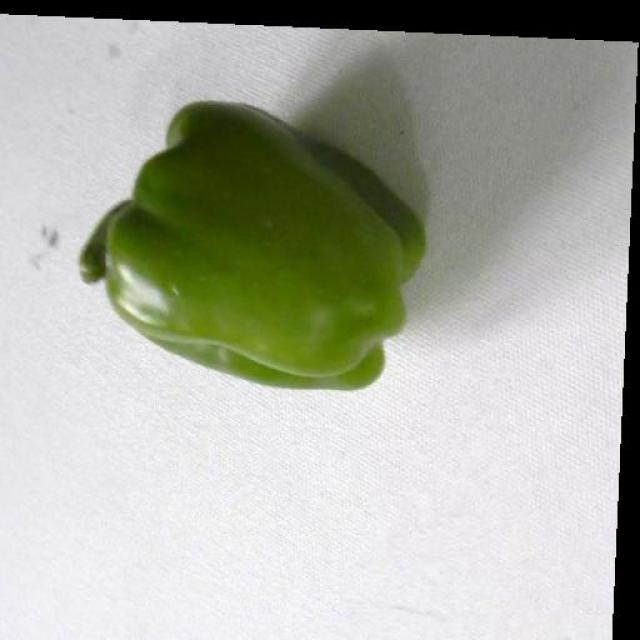Fresh_Capsicum: (98, 116, 435, 385)
